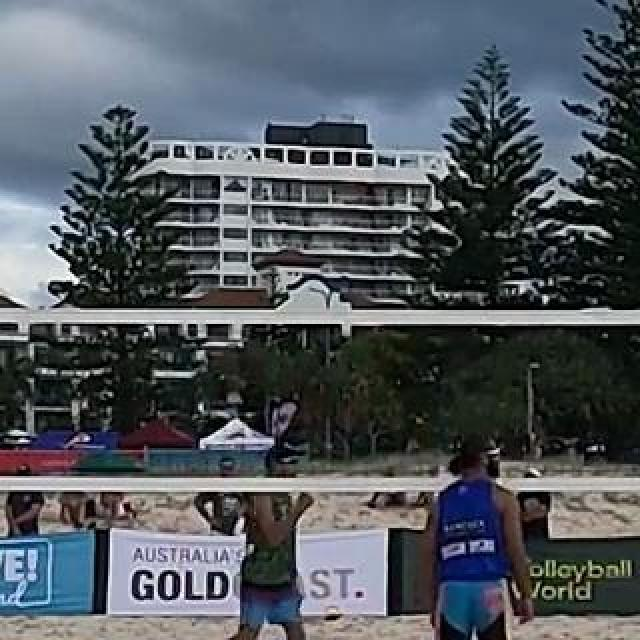volleyball: (323, 603, 343, 623)
